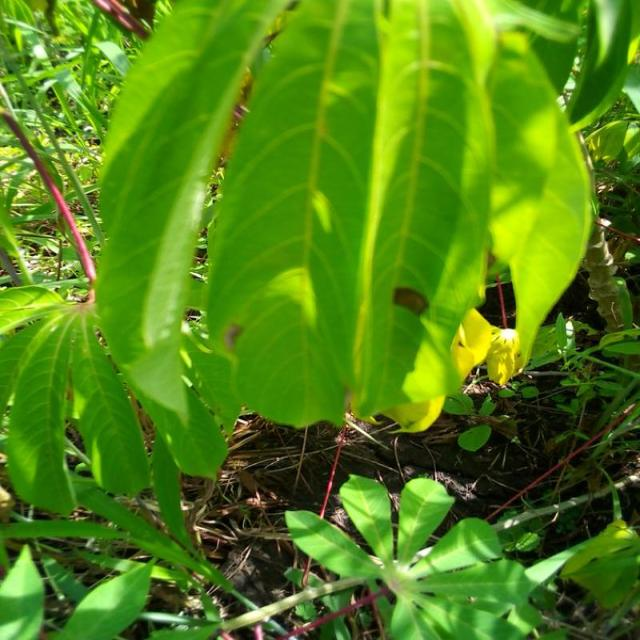cassava leaf: (94, 0, 600, 477), (94, 0, 286, 481)
